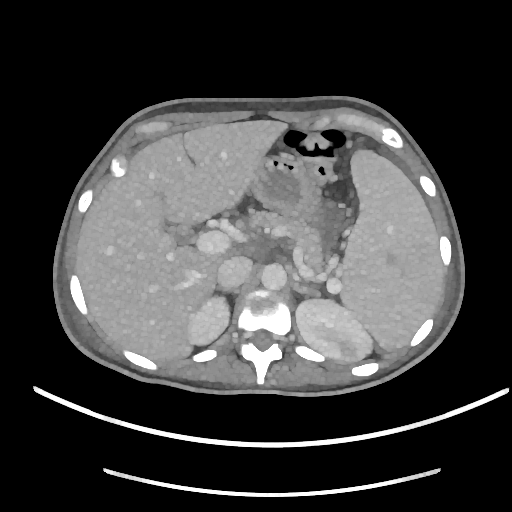Lesion: (335, 337, 363, 362)
